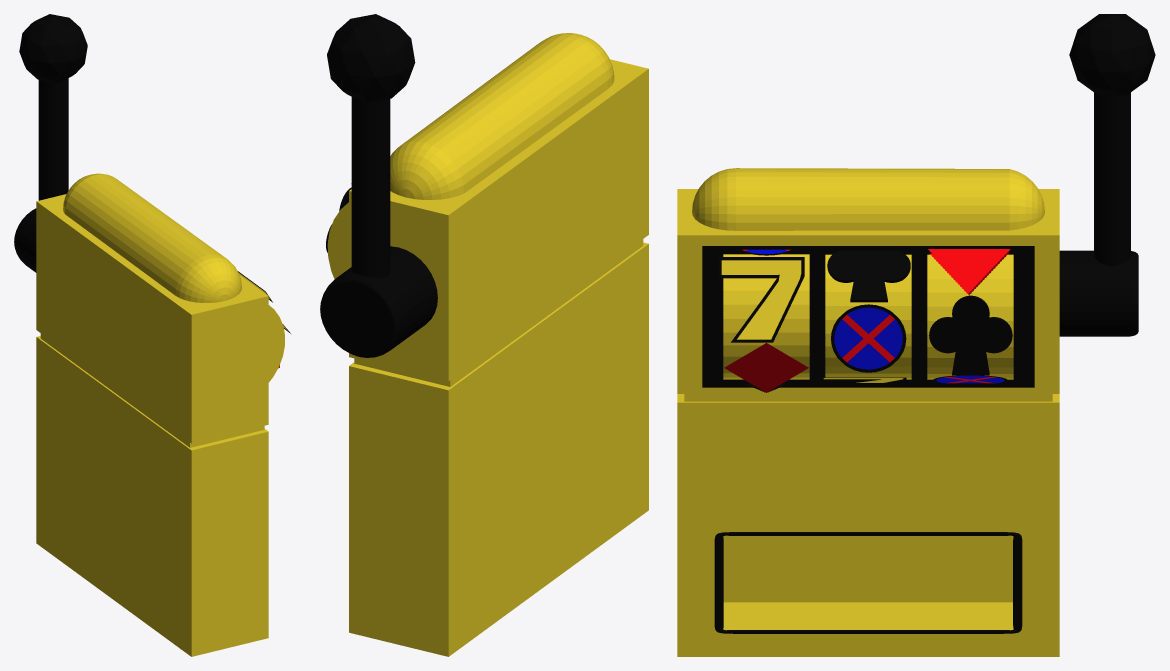
File: Gamble_Roll.fbx
The picture shows the model from 3 angles, left to right: view 1: azimuth 30°, elevation 25°; view 2: azimuth 150°, elevation 25°; view 3: azimuth 270°, elevation 25°; orthographic projection. The views are drawn at different scales.
Visible parts, largest first — view 1: Cube, Slot_wheel; view 2: Cube, Slot_wheel.002; view 3: Cube, Slot_wheel, Slot_wheel.002, Slot_wheel.001, Cube.001.
Boxes of the visible parts, left/top/right/bottom form: Cube: left=14, top=14, right=268, bottom=656; Slot_wheel: left=238, top=271, right=290, bottom=382; Cube: left=320, top=14, right=648, bottom=656; Slot_wheel.002: left=326, top=183, right=351, bottom=279; Cube: left=677, top=14, right=1155, bottom=656; Slot_wheel: left=718, top=249, right=809, bottom=392; Slot_wheel.002: left=927, top=249, right=1013, bottom=383; Slot_wheel.001: left=820, top=250, right=911, bottom=382; Cube.001: left=714, top=532, right=1022, bottom=633.
Size of the model in its own units: 402 by 1579 by 1108.
